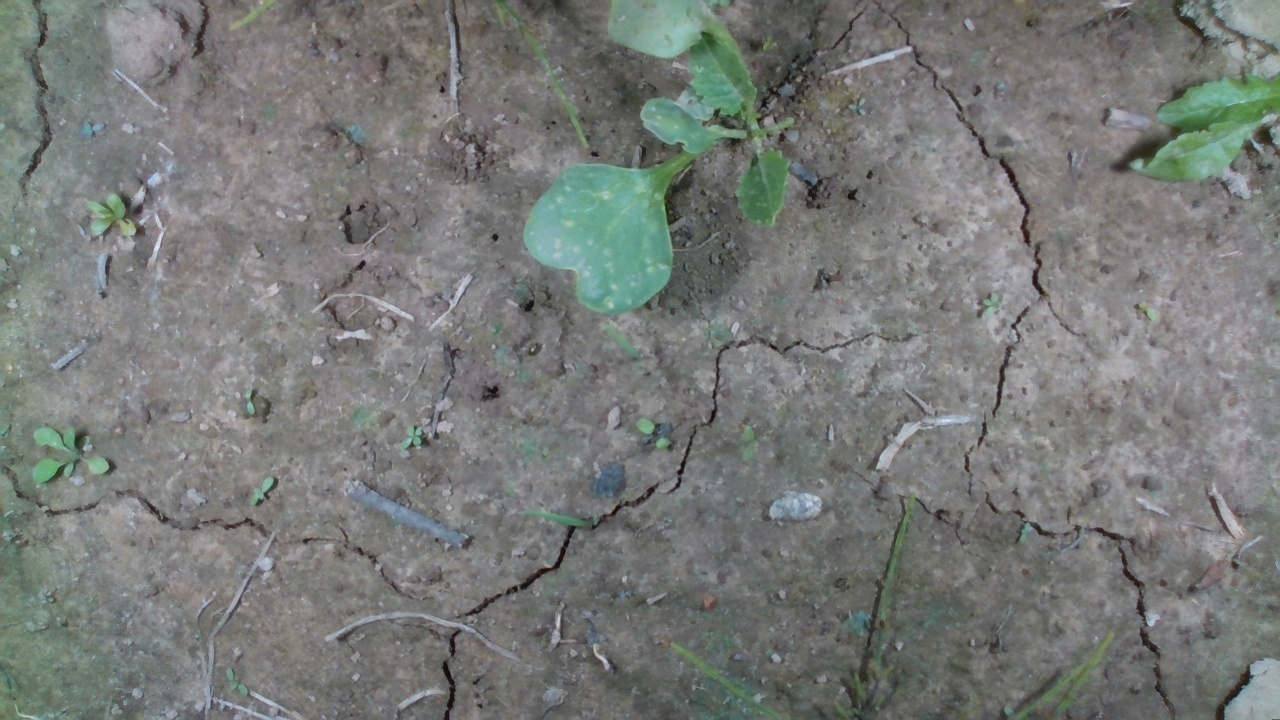weed: (31, 424, 111, 481), (83, 188, 138, 238), (634, 416, 671, 453), (248, 474, 275, 508), (397, 421, 424, 450), (225, 667, 249, 699), (740, 424, 758, 464), (78, 118, 107, 138), (241, 385, 257, 418), (981, 288, 999, 316)
